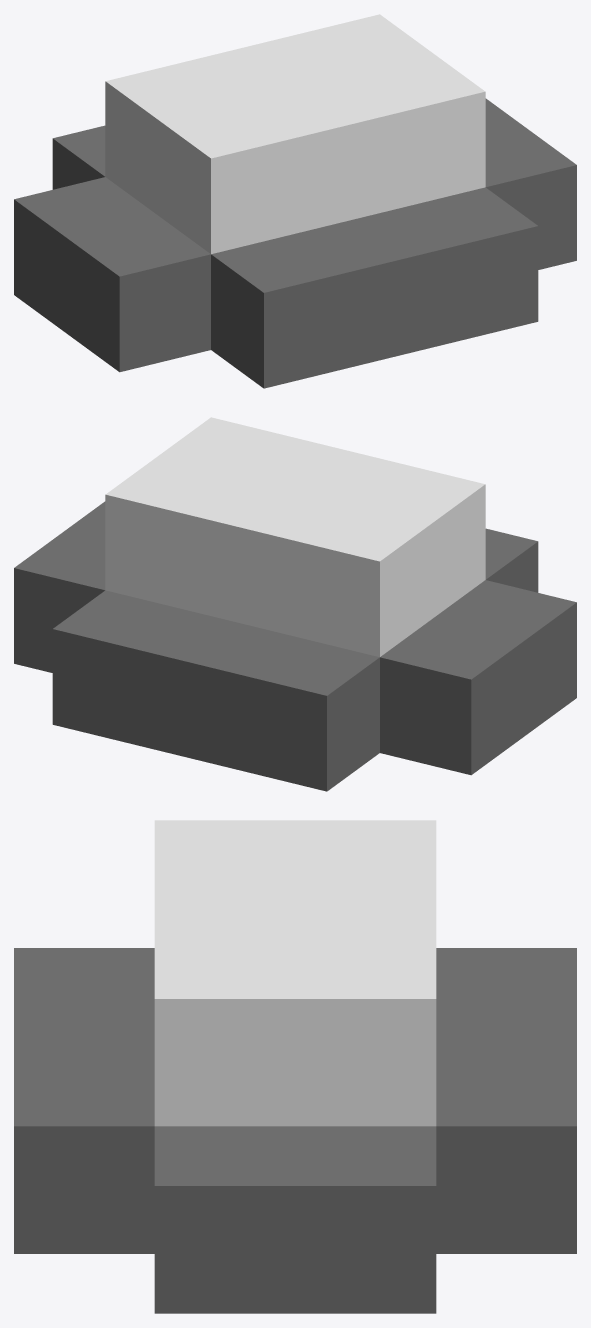
Rendered from Stones-0.obj.
3 views of the same model, one above another, from view 1: azimuth 30°, elevation 25°; view 2: azimuth 150°, elevation 25°; view 3: azimuth 270°, elevation 25° (orthographic). The views are drawn at different scales.
Size of the model in its own units: 0.5 by 0.2 by 0.4.
1 material, 1 textured.
